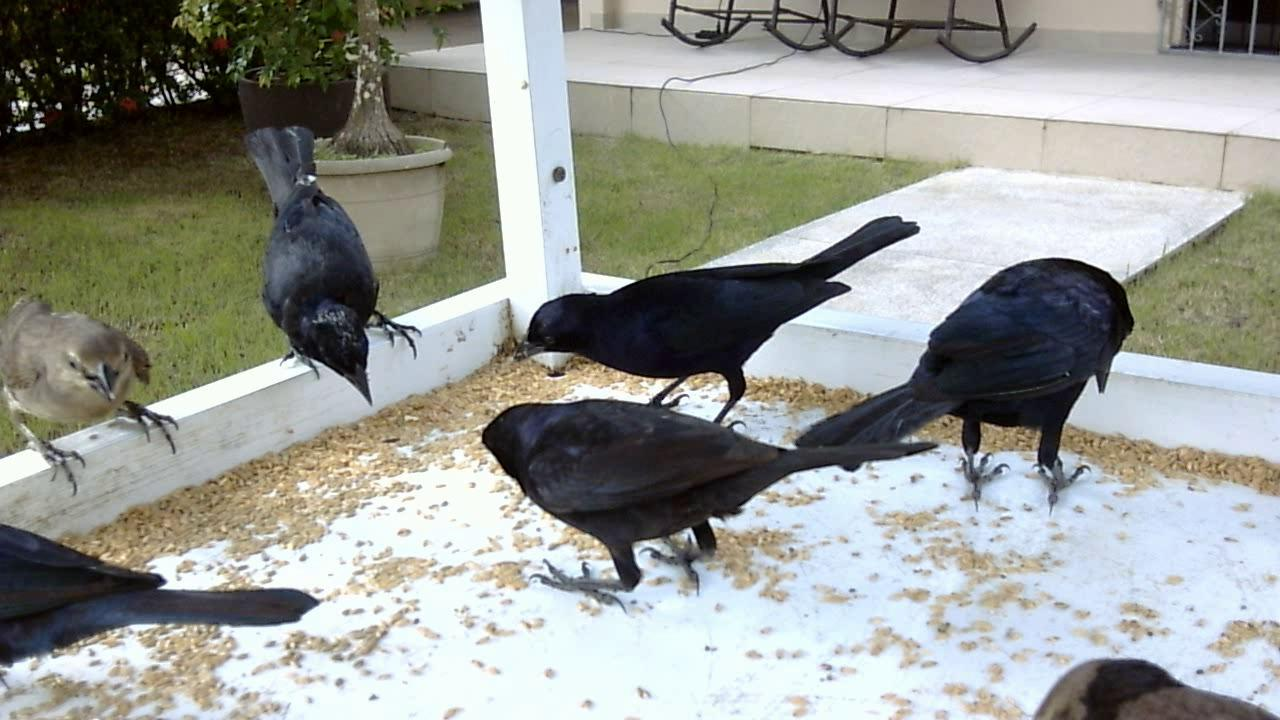chupim: (471, 356, 926, 611), (520, 206, 939, 460), (781, 242, 1150, 526), (1, 483, 340, 702), (241, 122, 425, 415), (1, 293, 184, 505)
